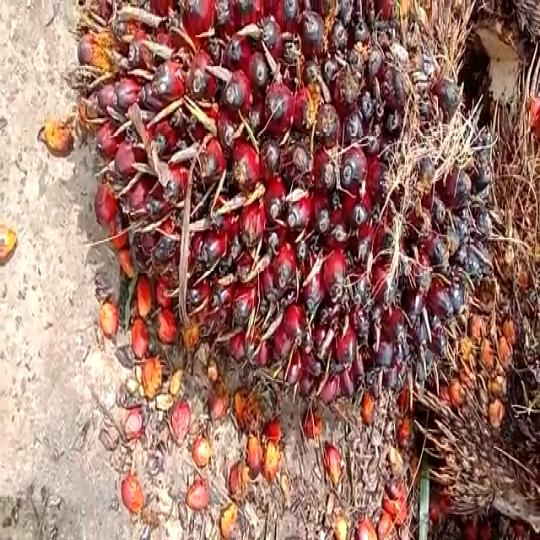kurang masak: (72, 0, 495, 421)
